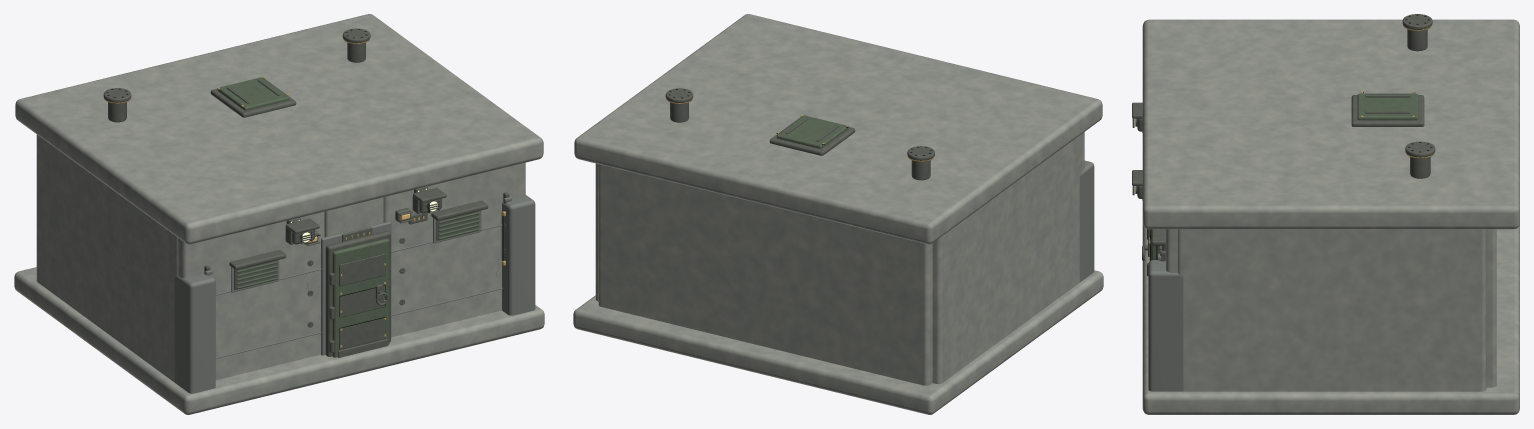
Rendered from bloedjungle_bunker_hq.glb.
3 renders of one model, left to right at view 1: azimuth 30°, elevation 25°; view 2: azimuth 150°, elevation 25°; view 3: azimuth 270°, elevation 25°, orthographic. The views are drawn at different scales.
Visible parts, largest first — view 1: Bloedjungle Bunker | Game Optimized; view 2: Bloedjungle Bunker | Game Optimized; view 3: Bloedjungle Bunker | Game Optimized.
Part boxes in pixels (x1,y1,x2,y2): Bloedjungle Bunker | Game Optimized: [14, 14, 544, 414]; Bloedjungle Bunker | Game Optimized: [573, 14, 1103, 414]; Bloedjungle Bunker | Game Optimized: [1132, 14, 1519, 414].
Size of the model in its own units: 8.4 by 4.85 by 7.2.
Materials: 8 (8 with a texture image).
